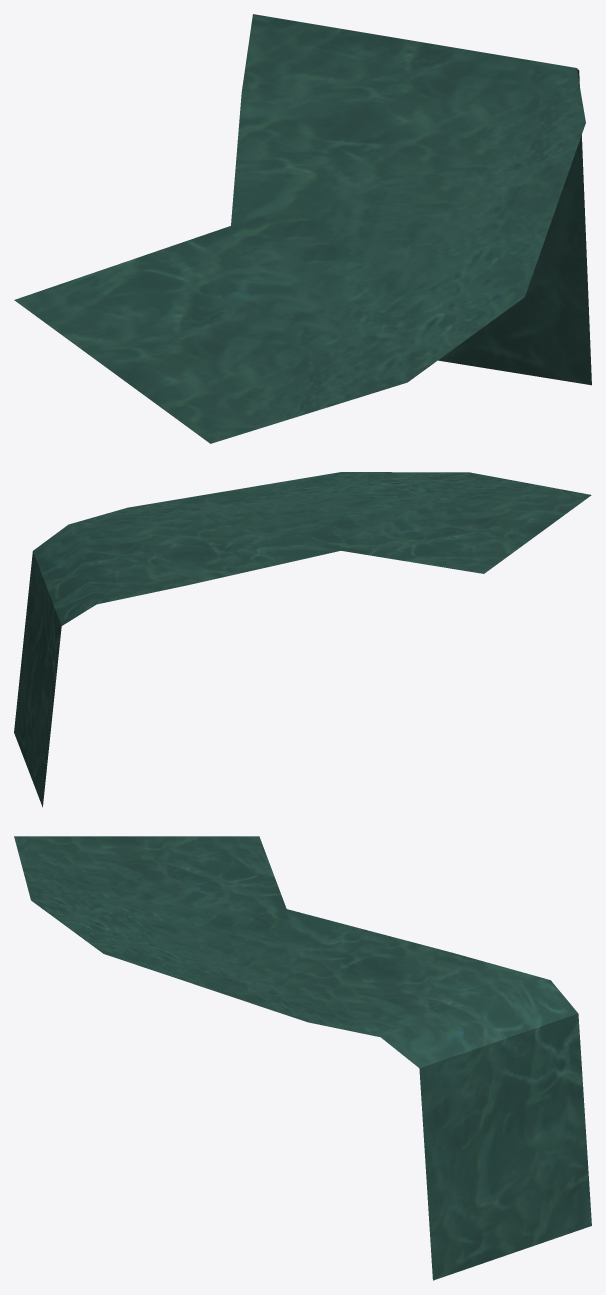
File: FB4_shui04.FBX
3 views of the same model, one above another, from view 1: azimuth 30°, elevation 25°; view 2: azimuth 150°, elevation 25°; view 3: azimuth 270°, elevation 25° (orthographic). The views are drawn at different scales.
Parts seen in each view (by area): view 1: FB4_shui04_001; view 2: FB4_shui04_001; view 3: FB4_shui04_001.
Part boxes in pixels (bbox=[...]): FB4_shui04_001: bbox=[14, 14, 591, 443]; FB4_shui04_001: bbox=[14, 472, 591, 807]; FB4_shui04_001: bbox=[14, 836, 591, 1280].
Size of the model in its own units: 2329 by 1123 by 2604.
